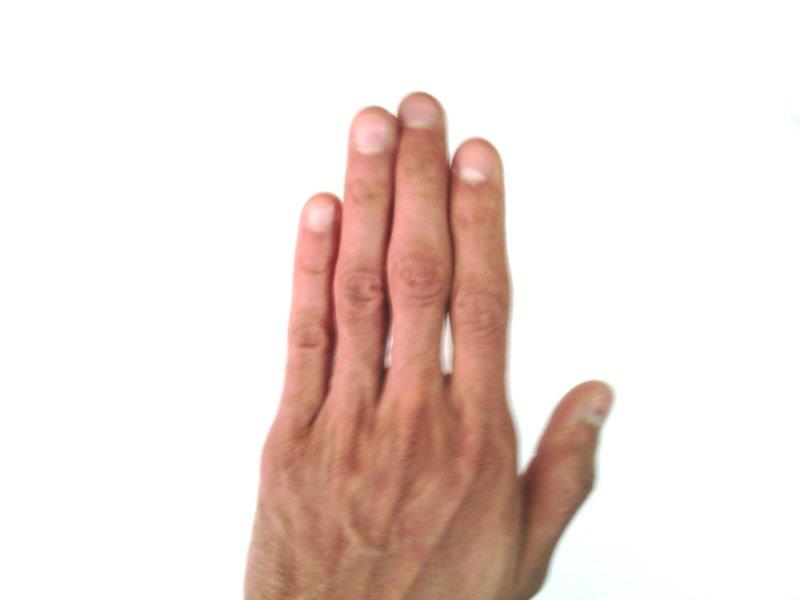hand: (245, 91, 614, 600)
